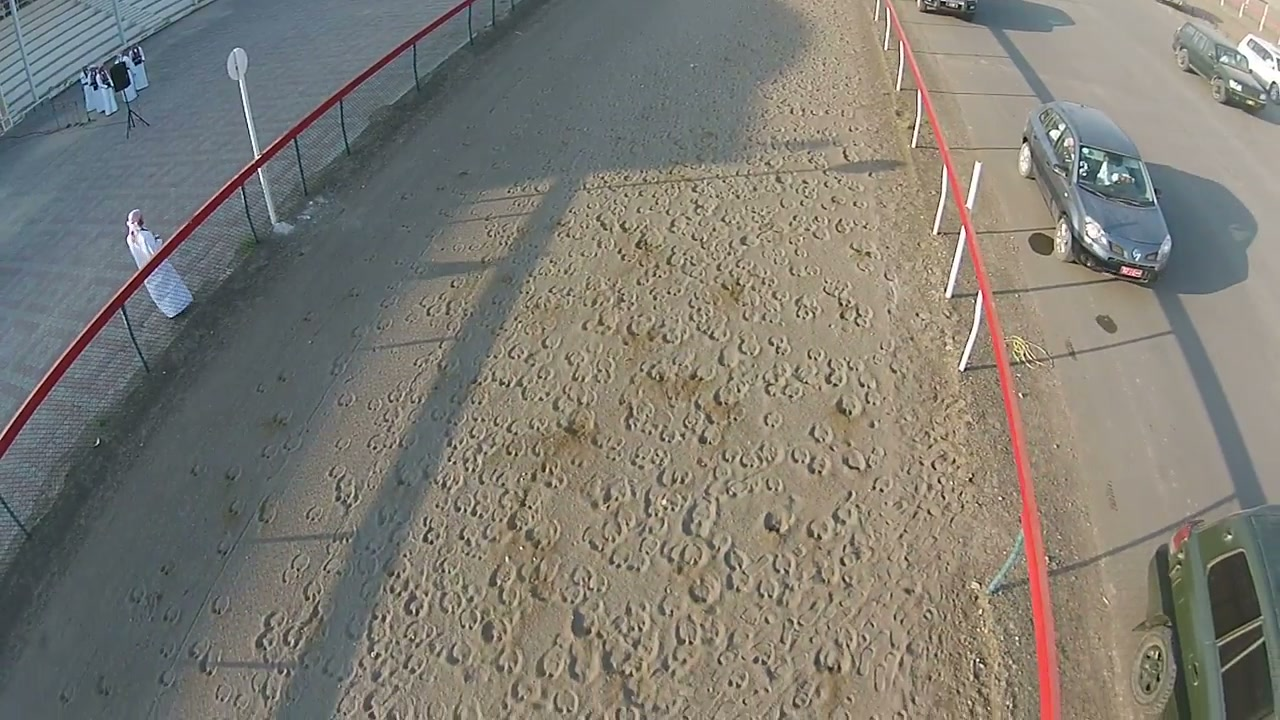animal_foot_print: (43, 0, 999, 719)
